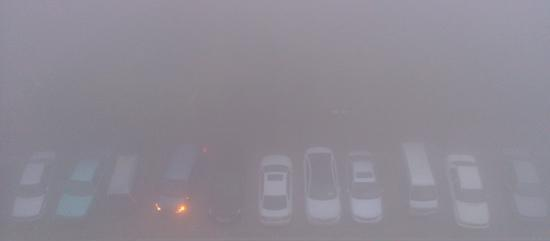car: (441, 150, 488, 231), (152, 143, 202, 218), (10, 148, 56, 222), (206, 148, 249, 226), (54, 157, 104, 224), (341, 150, 385, 225), (502, 149, 547, 222), (303, 144, 342, 227), (398, 140, 437, 222), (255, 151, 297, 226), (106, 151, 142, 212)
